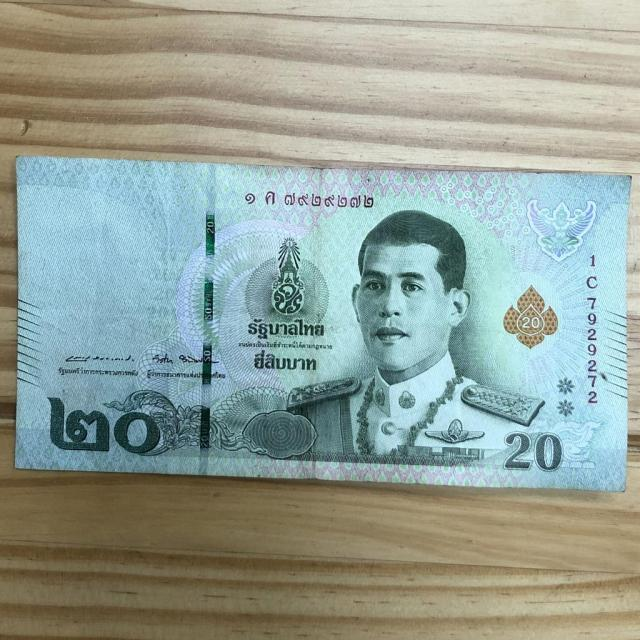THAI20: (13, 156, 632, 494)
